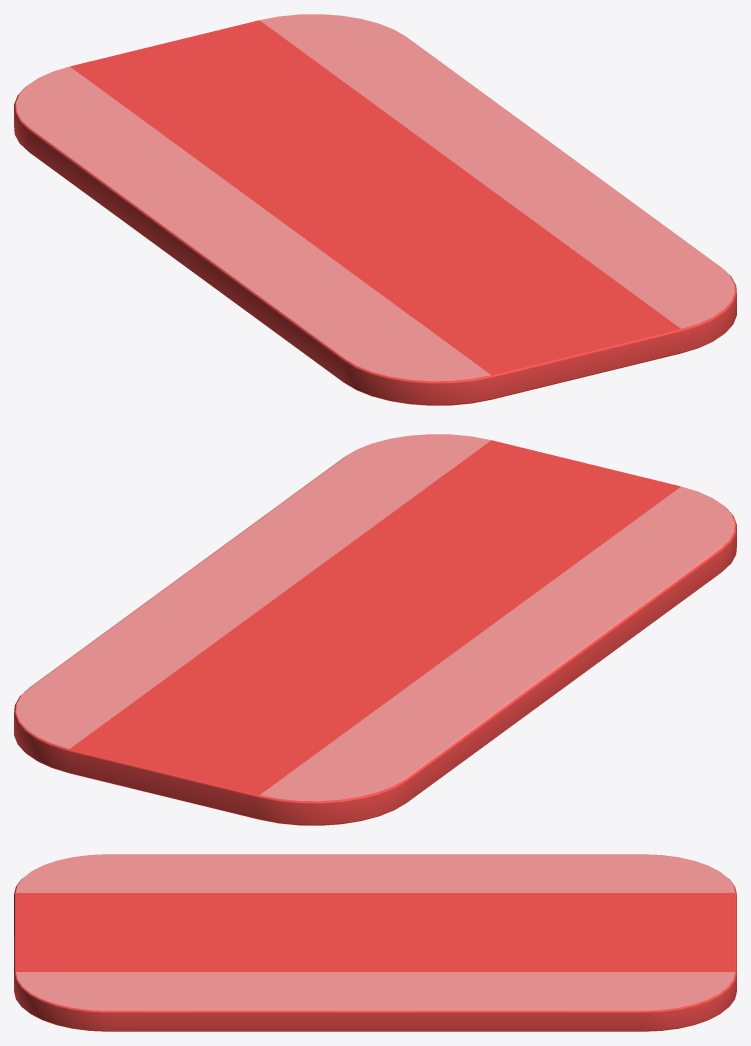
The model's file is City_18_Yoga_Mat_1.glb.
3 views of the same model, one above another, from view 1: azimuth 30°, elevation 25°; view 2: azimuth 150°, elevation 25°; view 3: azimuth 270°, elevation 25° (orthographic). The views are drawn at different scales.
Parts seen in each view (by area): view 1: City_18_Yoga_Mat_1; view 2: City_18_Yoga_Mat_1; view 3: City_18_Yoga_Mat_1.
Part boxes in pixels (x1,y1,x2,y2): City_18_Yoga_Mat_1: (14, 14, 736, 405); City_18_Yoga_Mat_1: (14, 434, 736, 825); City_18_Yoga_Mat_1: (14, 854, 736, 1031).
Bounding box in the file's own units: 0.8512 × 0.0526 × 1.65.
1 material, 1 textured.
